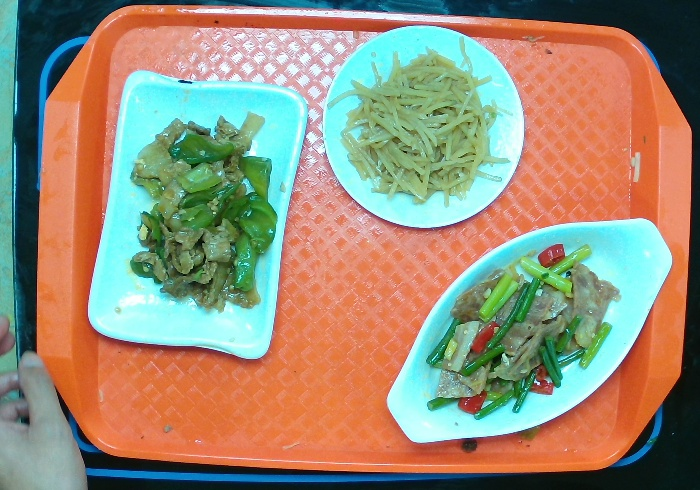RJxy-Si_Fang_Ao_Bian_Wan: (87, 76, 320, 357)
RJxy-Xiao_Yuan_Die: (320, 27, 525, 233)
RJxy-Yu_Pan: (378, 215, 673, 450)
